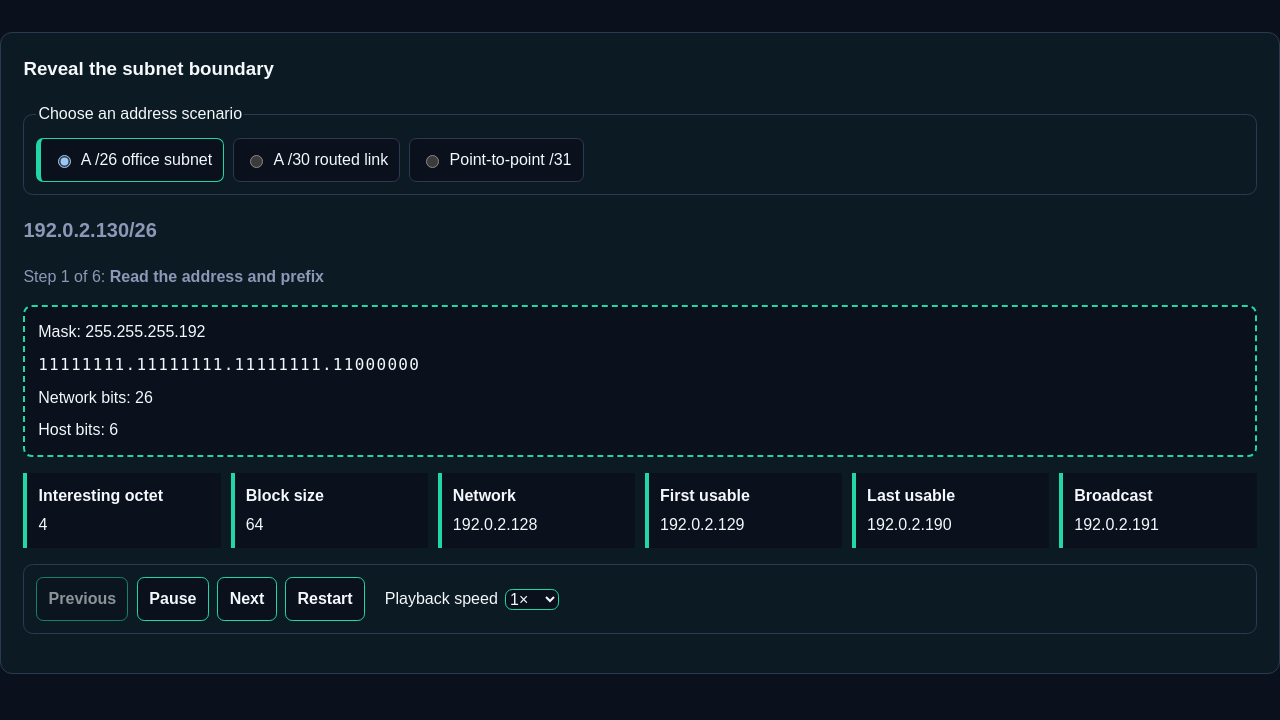
it: SubnetBoundaryPlayer › supports manual steps and recalculates when the scenario changes
The width and height of the screenshot is (1280, 720).
Click the button "Next": click(247, 599) top-left (218, 577), bottom-right (277, 621)
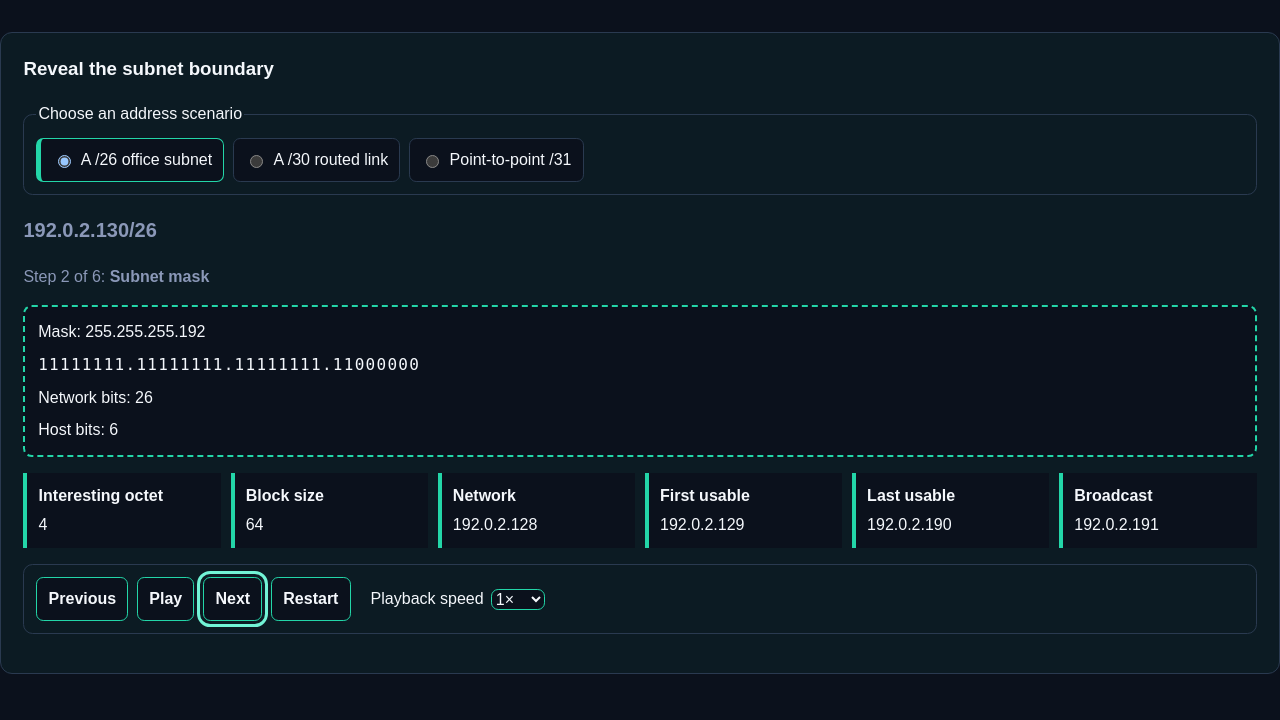
expect the message shows "Subnet mask": met, box top-left (110, 268), bottom-right (209, 285)
Click the radio button labelled "Point-to-point /31": click(433, 162) top-left (426, 155), bottom-right (439, 168)
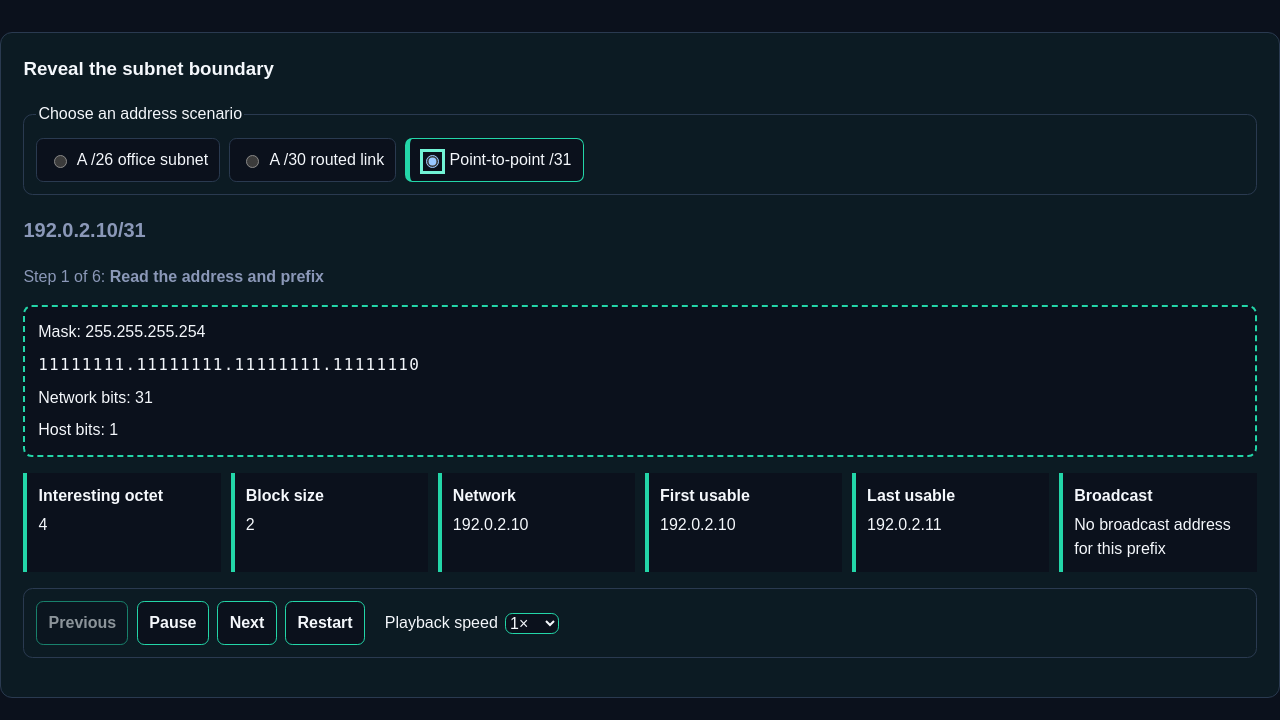
expect the text "192.0.2.10/31" is shown: met, box top-left (23, 219), bottom-right (146, 241)
expect the text "No broadcast address for this prefix" is shown: met, box top-left (1074, 513), bottom-right (1246, 561)
